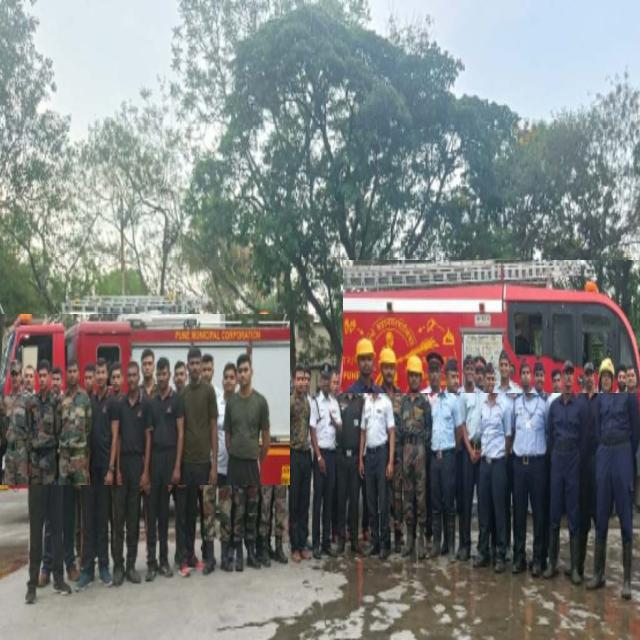emergency: (0, 315, 290, 485), (343, 260, 640, 393)
